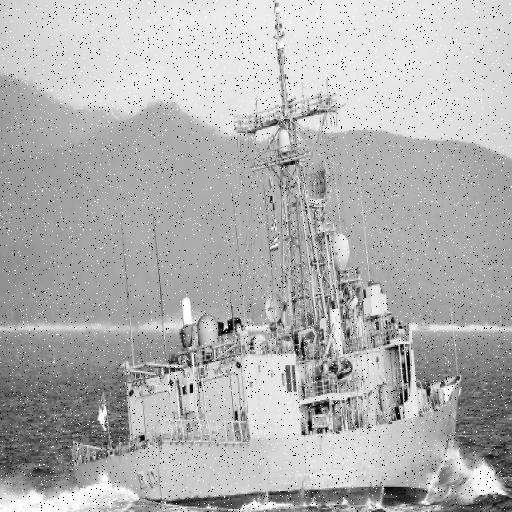Fragata: (69, 1, 469, 507)
